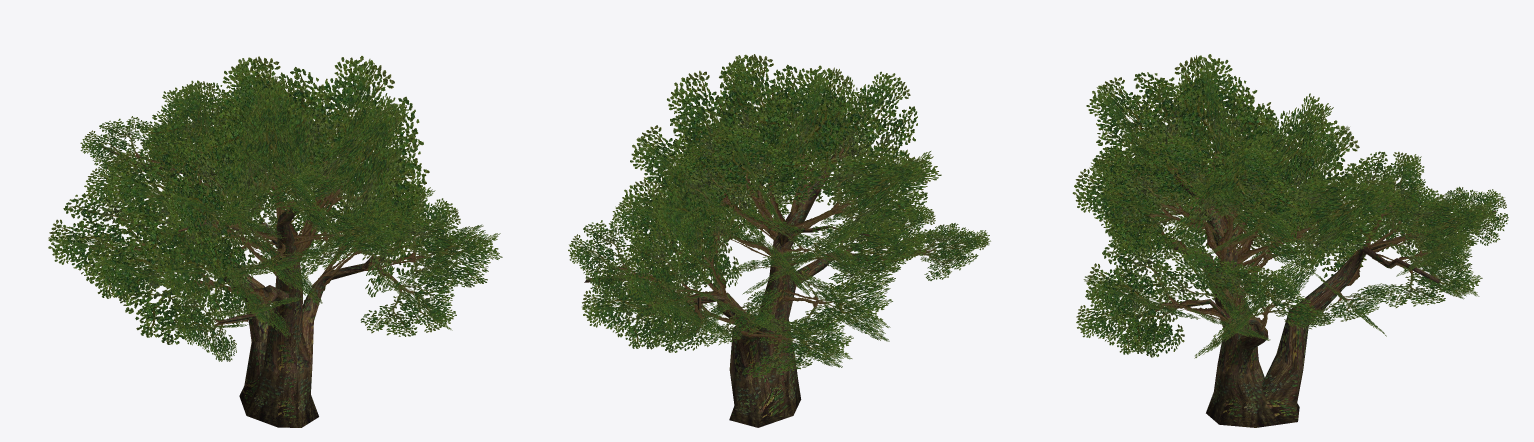
The model's file is c_hhm_tree_01.glb.
3 renders of one model, left to right at view 1: azimuth 30°, elevation 25°; view 2: azimuth 150°, elevation 25°; view 3: azimuth 270°, elevation 25°, orthographic. The views are drawn at different scales.
Parts seen in each view (by area): view 1: C_hhm_tree_01, C_hhm_tree_04, C_hhm_tree_03; view 2: C_hhm_tree_01, C_hhm_tree_04, C_hhm_tree_03; view 3: C_hhm_tree_01, C_hhm_tree_04, C_hhm_tree_03.
Boxes of the visible parts, left/top/right/bottom form: C_hhm_tree_01: left=48, top=56, right=502, bottom=361; C_hhm_tree_04: left=102, top=145, right=383, bottom=373; C_hhm_tree_03: left=239, top=339, right=318, bottom=427; C_hhm_tree_01: left=568, top=54, right=990, bottom=378; C_hhm_tree_04: left=584, top=154, right=926, bottom=378; C_hhm_tree_03: left=729, top=355, right=801, bottom=427; C_hhm_tree_01: left=1072, top=54, right=1508, bottom=358; C_hhm_tree_04: left=1149, top=168, right=1497, bottom=375; C_hhm_tree_03: left=1206, top=354, right=1303, bottom=427.
Size of the model in its own units: 67.49 by 66.37 by 76.22.
3 materials, 3 textured.
